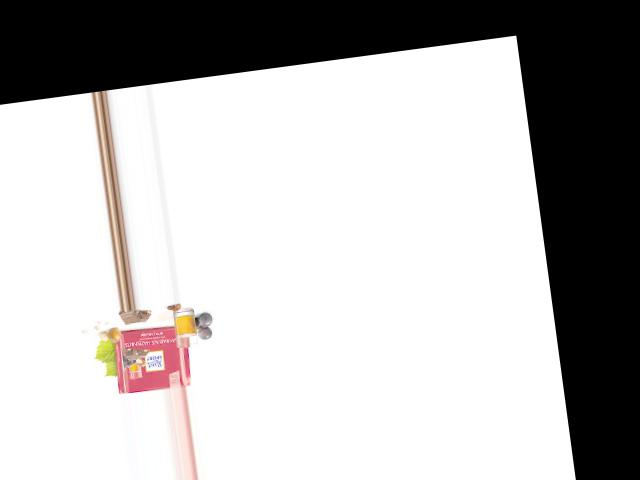chocolate: (108, 323, 191, 394)
